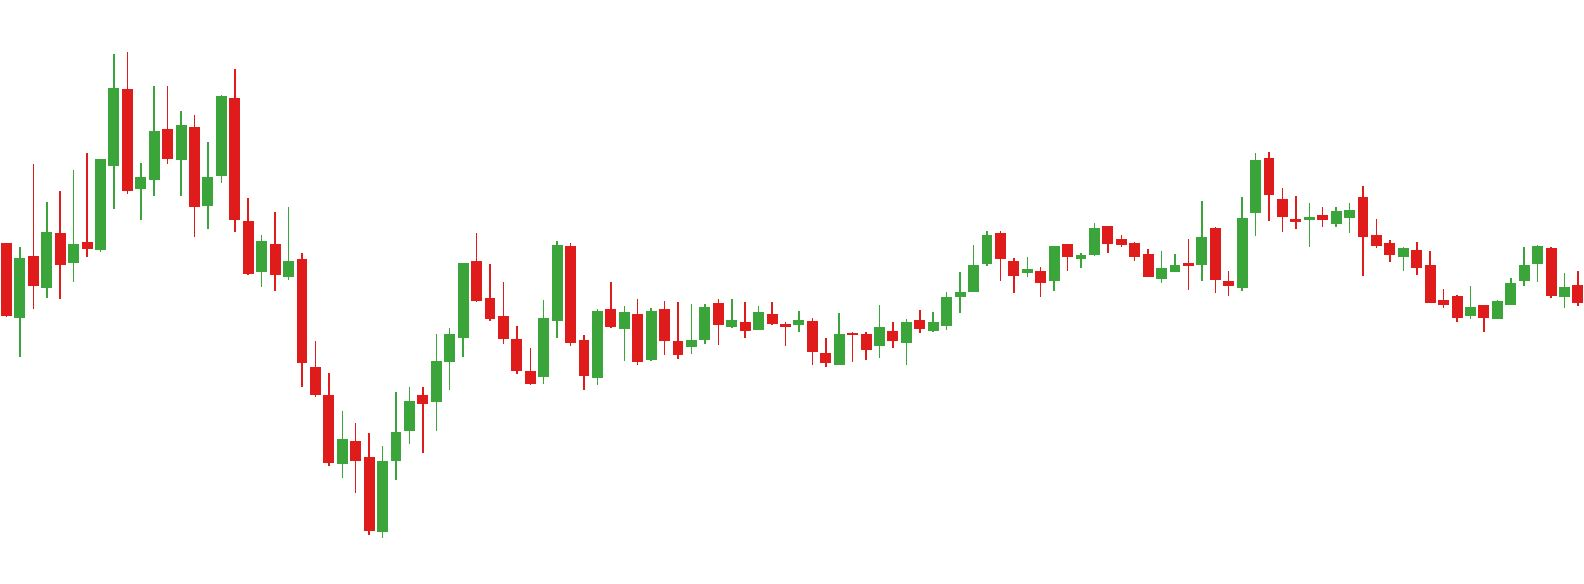sell: (145, 74, 242, 195), (484, 241, 579, 329)
